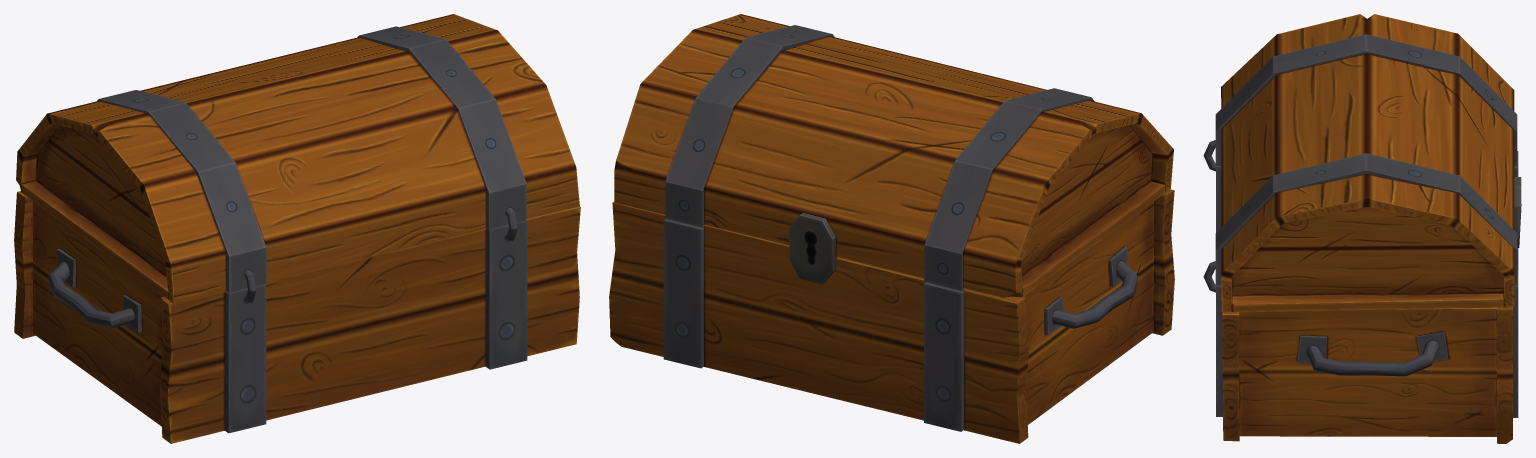
The model's file is wood_chest.glb.
The picture shows the model from 3 angles, left to right: view 1: azimuth 30°, elevation 25°; view 2: azimuth 150°, elevation 25°; view 3: azimuth 270°, elevation 25°; orthographic projection. The views are drawn at different scales.
Parts seen in each view (by area): view 1: Wood_Chest_Top, Wood_Chest_Bottom; view 2: Wood_Chest_Top, Wood_Chest_Bottom; view 3: Wood_Chest_Top, Wood_Chest_Bottom.
Boxes of the visible parts, box(x1,y1,x2,y2) form: Wood_Chest_Top: box(16, 14, 579, 304); Wood_Chest_Bottom: box(14, 191, 580, 443); Wood_Chest_Top: box(614, 14, 1173, 297); Wood_Chest_Bottom: box(609, 189, 1174, 443); Wood_Chest_Top: box(1203, 14, 1521, 312); Wood_Chest_Bottom: box(1209, 151, 1518, 443).
Size of the model in its own units: 0.4375 by 0.2442 by 0.2842.
2 materials, 2 textured.
